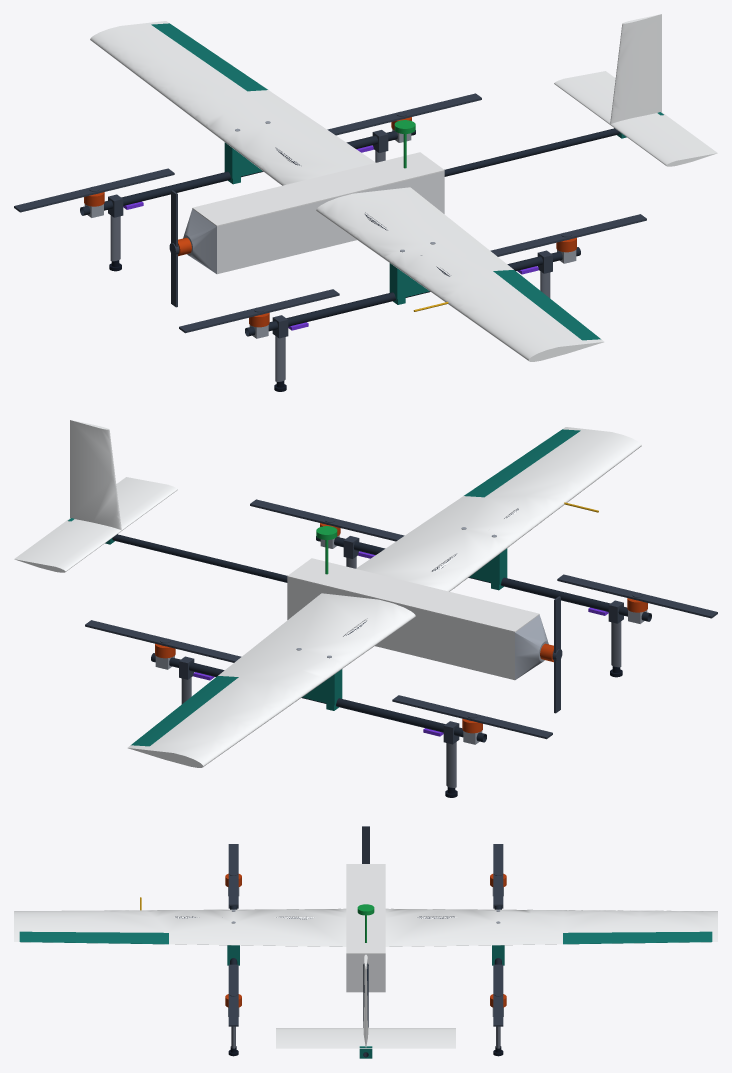
The picture shows the model from 3 angles, top to bottom: view 1: azimuth 30°, elevation 25°; view 2: azimuth 150°, elevation 25°; view 3: azimuth 270°, elevation 25°; orthographic projection. The views are drawn at different scales.
Visible parts, largest first — view 1: Wing panel, left, Wing panel, right, Fuselage box, Hatch, Horizontal stabiliser with elevator, Fin with rudder, Lift propellers, left, Lift propellers, right, Lift boom, left, Lift boom, right, Aileron, left, Aileron, right (+7 smaller); view 2: Wing panel, right, Wing panel, left, Fuselage box, Hatch, Horizontal stabiliser with elevator, Fin with rudder, Lift propellers, right, Lift propellers, left, Lift boom, right, Lift boom, left, Aileron, right, Aileron, left (+7 smaller); view 3: Wing panel, left, Wing panel, right, Horizontal stabiliser with elevator, Hatch, Aileron, right, Aileron, left, Fuselage box, Lift propellers, right, Lift propellers, left.
Boxes of the visible parts, bbox=[...] form: Wing panel, left: bbox=[316, 187, 604, 361]; Wing panel, right: bbox=[90, 21, 375, 185]; Fuselage box: bbox=[217, 171, 444, 274]; Hatch: bbox=[192, 152, 444, 226]; Horizontal stabiliser with elevator: bbox=[554, 71, 717, 166]; Fin with rudder: bbox=[610, 14, 661, 124]; Lift propellers, left: bbox=[179, 214, 646, 333]; Lift propellers, right: bbox=[14, 93, 481, 212]; Lift boom, left: bbox=[245, 247, 580, 336]; Lift boom, right: bbox=[80, 130, 415, 215]; Aileron, left: bbox=[493, 270, 600, 340]; Aileron, right: bbox=[151, 23, 267, 91]; Wing panel, right: bbox=[127, 593, 415, 767]; Wing panel, left: bbox=[356, 427, 641, 591]; Fuselage box: bbox=[287, 577, 514, 680]; Hatch: bbox=[287, 558, 539, 632]; Horizontal stabiliser with elevator: bbox=[14, 477, 177, 572]; Fin with rudder: bbox=[70, 420, 121, 530]; Lift propellers, right: bbox=[85, 620, 552, 739]; Lift propellers, left: bbox=[250, 499, 717, 618]; Lift boom, right: bbox=[151, 653, 486, 742]; Lift boom, left: bbox=[316, 536, 651, 621]; Aileron, right: bbox=[131, 676, 238, 746]; Aileron, left: bbox=[464, 429, 580, 497]; Wing panel, left: bbox=[14, 908, 346, 946]; Wing panel, right: bbox=[385, 908, 717, 946]; Horizontal stabiliser with elevator: bbox=[276, 1028, 455, 1048]; Hatch: bbox=[346, 864, 385, 953]; Aileron, right: bbox=[563, 931, 712, 944]; Aileron, left: bbox=[19, 931, 168, 944]; Fuselage box: bbox=[346, 954, 385, 992]; Lift propellers, right: bbox=[493, 844, 503, 1026]; Lift propellers, left: bbox=[228, 844, 238, 1026].
Size of the model in its own units: 1.85 by 0.6345 by 2.5.
